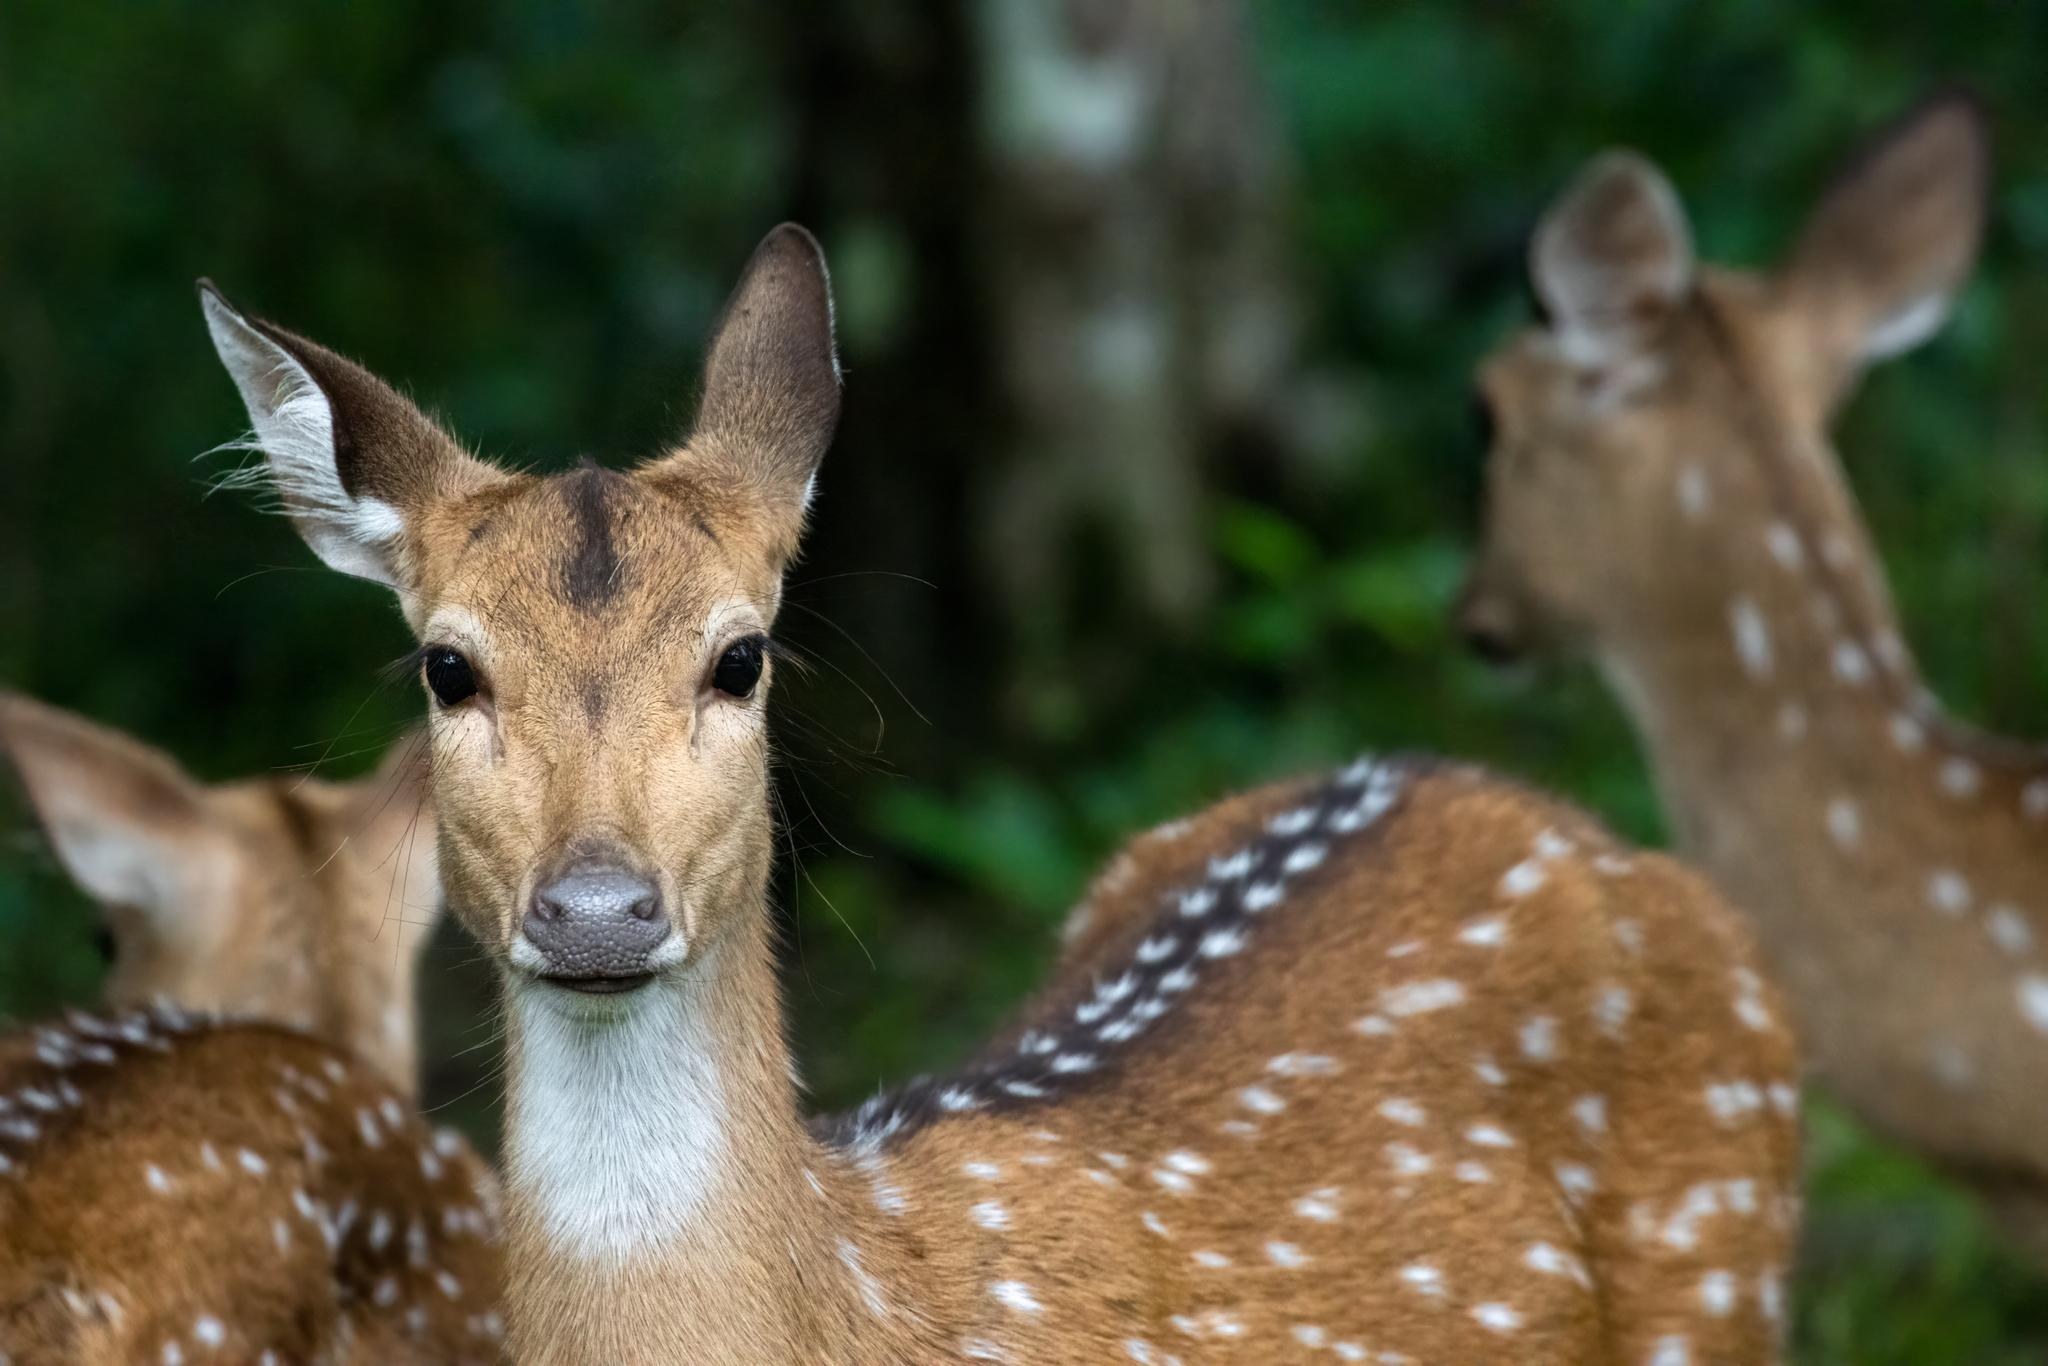Deer: (203, 224, 1798, 1364), (1460, 101, 2046, 1217), (0, 1008, 501, 1364)
